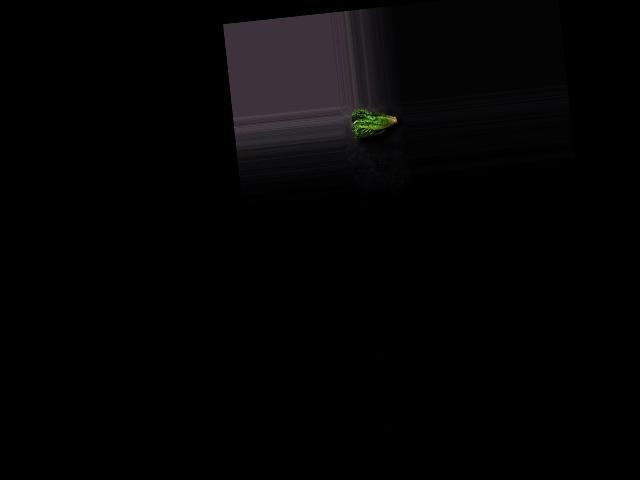lettuce: (350, 104, 402, 141)
